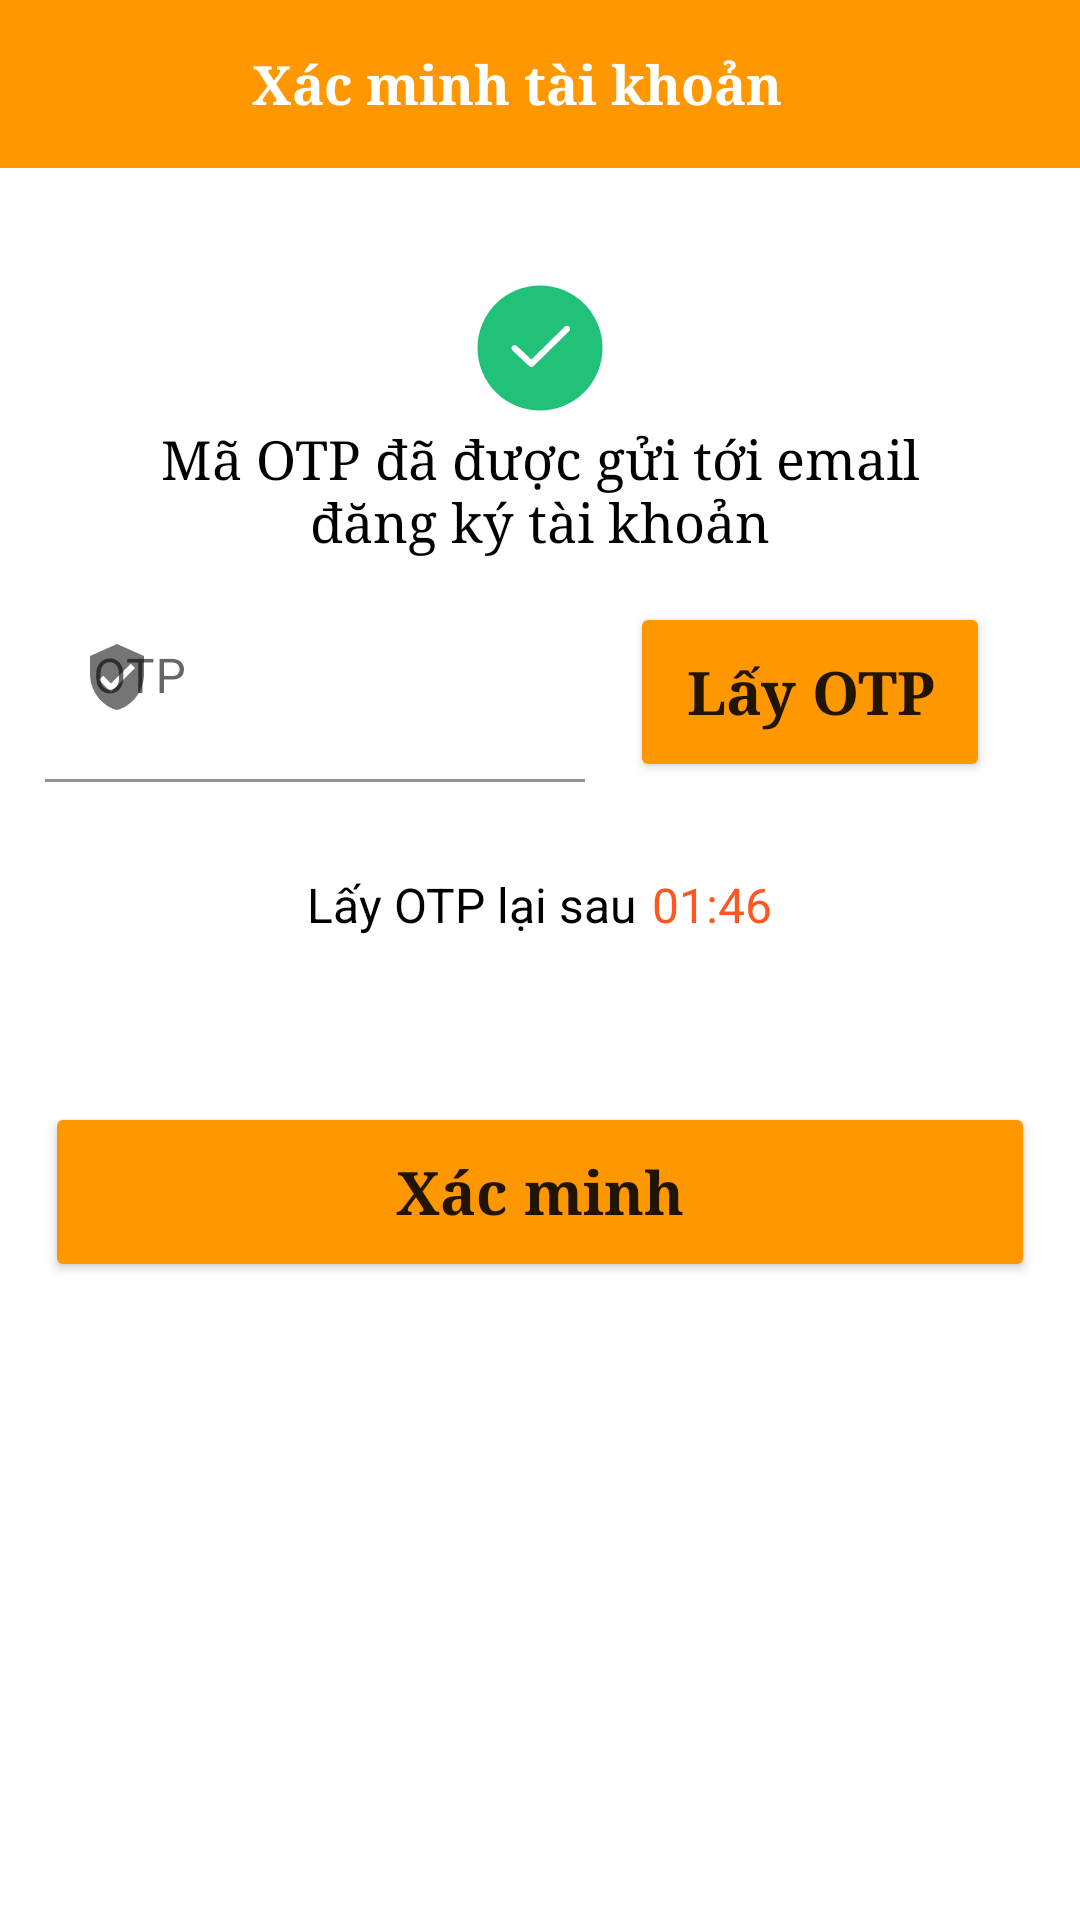

Icon click points for this 1080 × 1920 phone screenshot, format (x,y):
success: (540,348)
